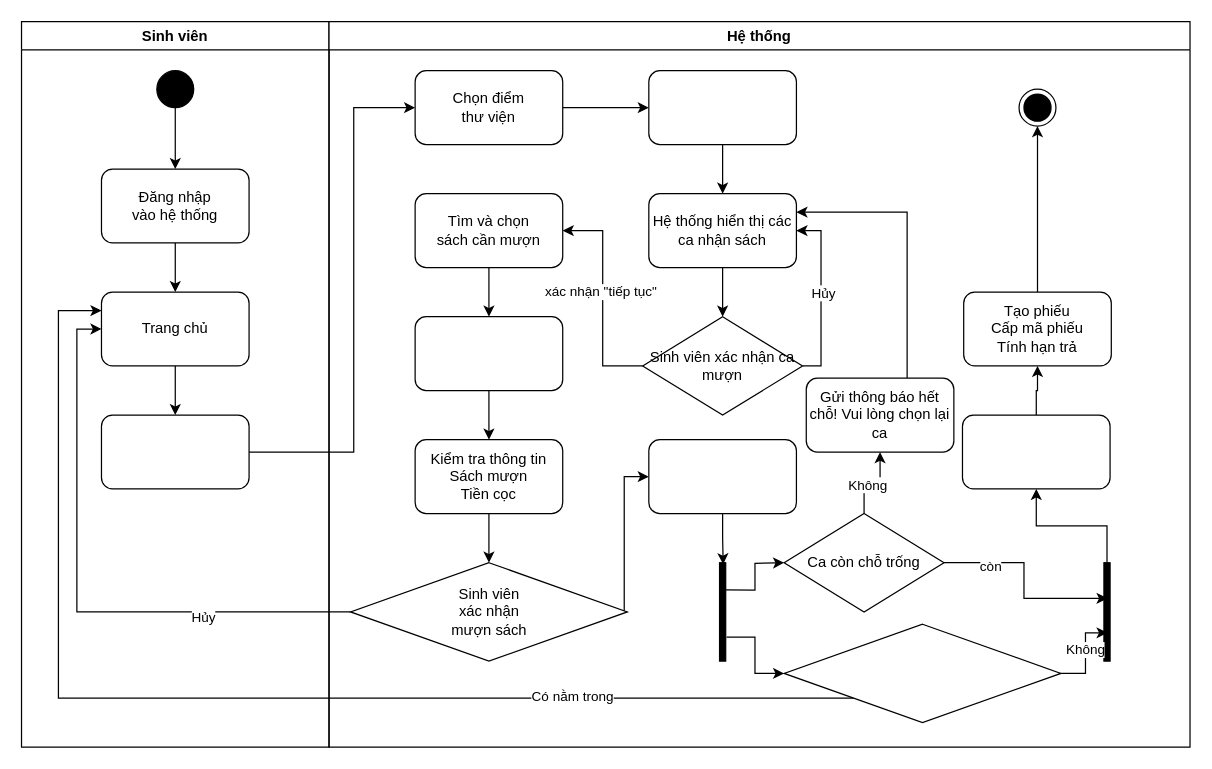
Some shapes in this 1212 by 769 pixel diagram are drawn without their labels. Each missing label, with the box of its shape:
Chọn ngày nhận sách: (648, 69, 796, 145)
Gửi thông báo mượn sách thành công: (961, 414, 1110, 489)
Kiểm tra ca và sách quá hạn của sinh viên: (648, 438, 796, 514)
Sinh viên không nằm trong danh sách có sách quá hạn: (783, 623, 1061, 723)
Thêm ghi chú: (414, 315, 563, 391)
Vào mục mượn sách: (100, 414, 249, 489)
